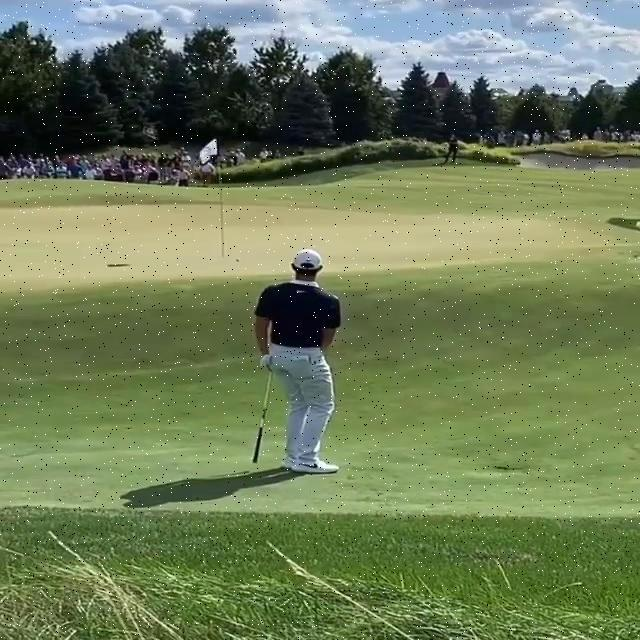golf club-handle: (252, 354, 274, 465)
golf club-head: (266, 356, 274, 373)
